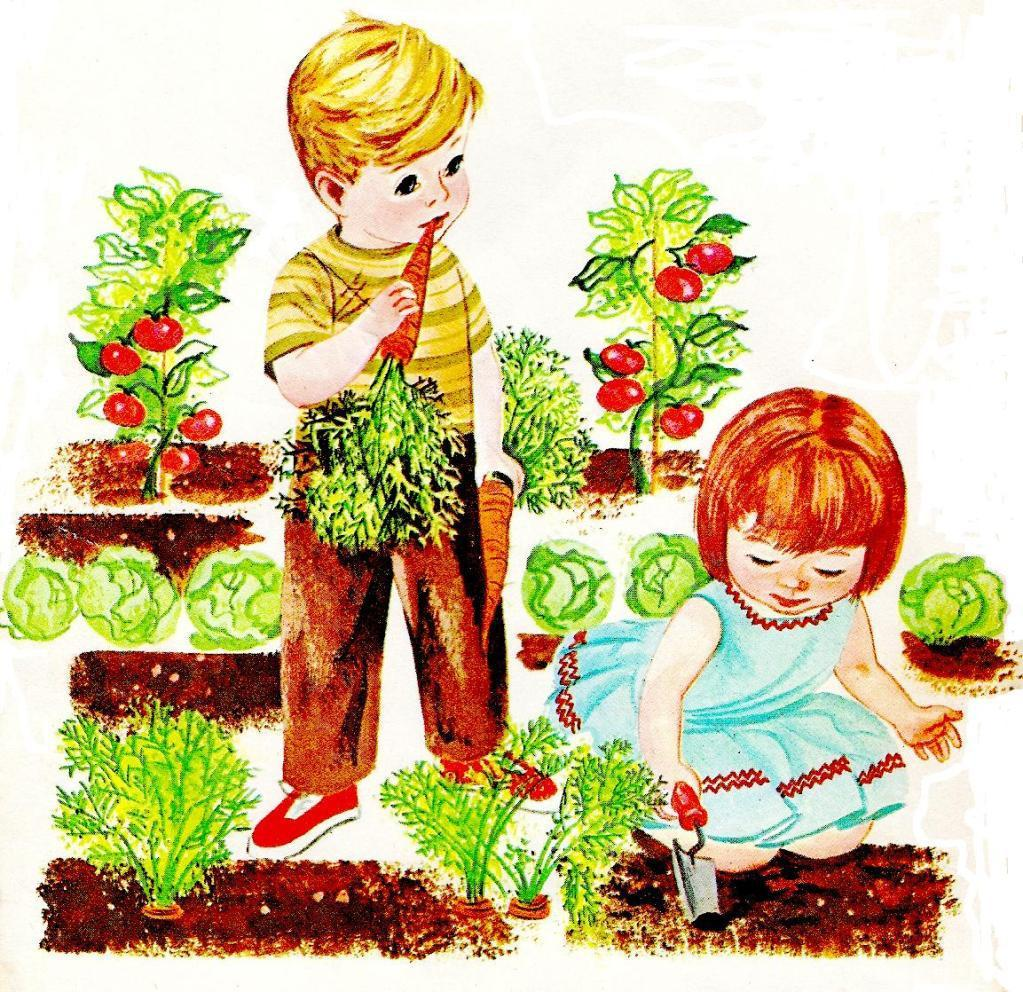person: (229, 16, 552, 840), (596, 371, 956, 870)
